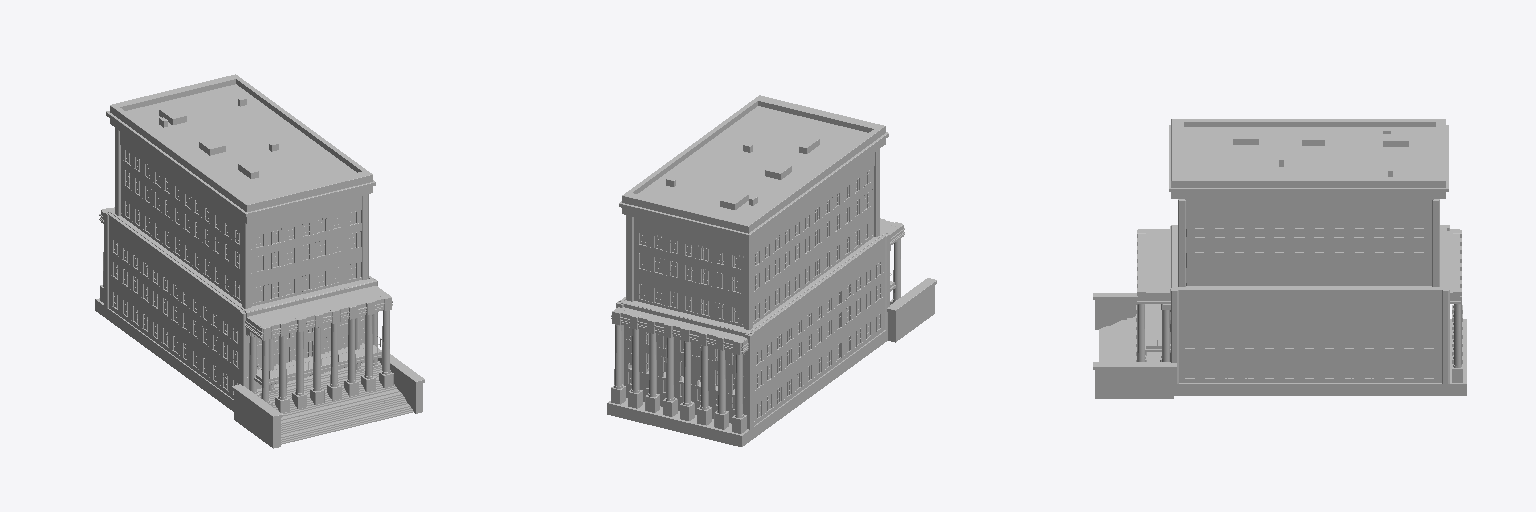
File: Administrative organ.obj
The picture shows the model from 3 angles: view 1: azimuth 30°, elevation 25°; view 2: azimuth 150°, elevation 25°; view 3: azimuth 270°, elevation 25°; orthographic projection.
Visible parts, largest first — view 1: FedResrv_concrete, FedResrv_wndwframes, FedResrv_03, FedResrv_02, FedResrv_01, FedResrv_glass; view 2: FedResrv_concrete, FedResrv_wndwframes, FedResrv_02, FedResrv_03, FedResrv_01, FedResrv_glass; view 3: FedResrv_concrete, FedResrv_wndwframes, FedResrv_03, FedResrv_02, FedResrv_01, FedResrv_glass.
Boxes of the visible parts, x1,y1,x2,y2 form: FedResrv_concrete: [106, 74, 424, 448]; FedResrv_wndwframes: [103, 149, 381, 398]; FedResrv_03: [99, 131, 395, 413]; FedResrv_02: [95, 106, 396, 415]; FedResrv_01: [100, 208, 391, 406]; FedResrv_glass: [111, 158, 364, 389]; FedResrv_concrete: [619, 95, 936, 342]; FedResrv_wndwframes: [624, 170, 895, 425]; FedResrv_02: [607, 149, 904, 446]; FedResrv_03: [611, 153, 904, 429]; FedResrv_01: [612, 239, 900, 433]; FedResrv_glass: [629, 167, 891, 415]; FedResrv_concrete: [1093, 119, 1448, 398]; FedResrv_wndwframes: [1145, 216, 1441, 382]; FedResrv_03: [1135, 199, 1461, 383]; FedResrv_02: [1133, 129, 1466, 395]; FedResrv_01: [1136, 230, 1462, 382]; FedResrv_glass: [1186, 216, 1294, 378].
Bounding box in the file's own units: 29.61 × 39.73 × 62.85.